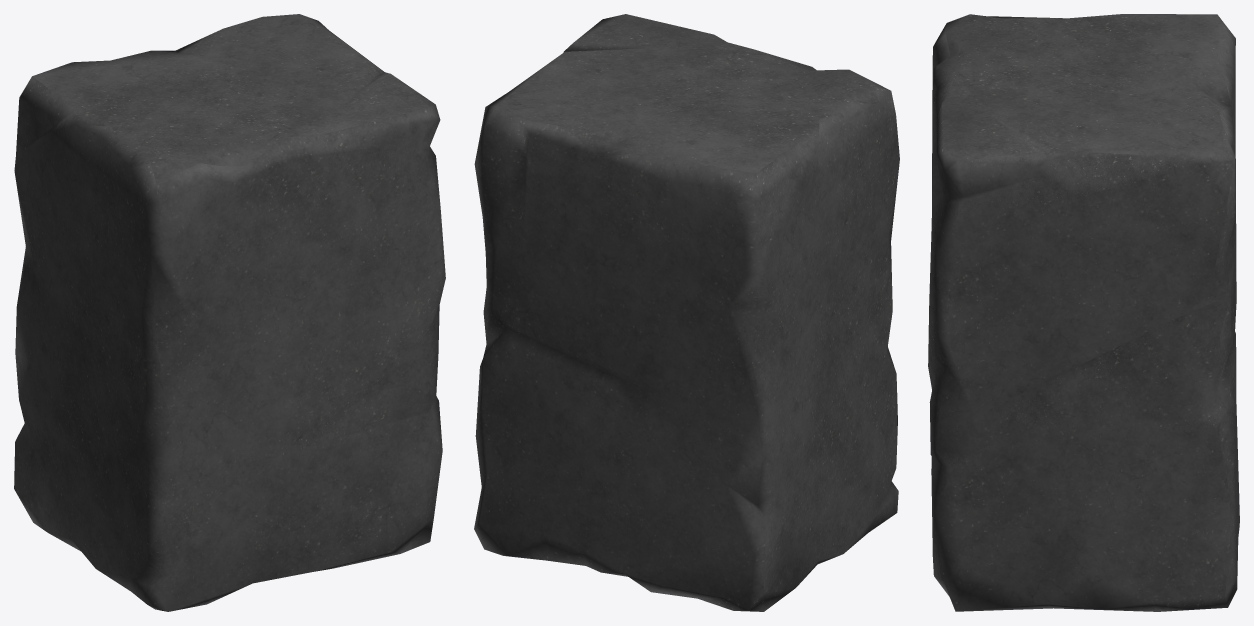
The model's file is SM_ColumnSegment2.fbx.
3 views of the same model, side by side, from view 1: azimuth 30°, elevation 25°; view 2: azimuth 150°, elevation 25°; view 3: azimuth 270°, elevation 25° (orthographic). The views are drawn at different scales.
Parts seen in each view (by area): view 1: SM_ColumnSegment2_LOD0; view 2: SM_ColumnSegment2_LOD0; view 3: SM_ColumnSegment2_LOD0.
Boxes of the visible parts, left/top/right/bottom form: SM_ColumnSegment2_LOD0: left=14, top=14, right=445, bottom=611; SM_ColumnSegment2_LOD0: left=474, top=14, right=899, bottom=611; SM_ColumnSegment2_LOD0: left=928, top=14, right=1239, bottom=611.
Size of the model in its own units: 134 by 117 by 191.
Materials: 1 (1 with a texture image).
